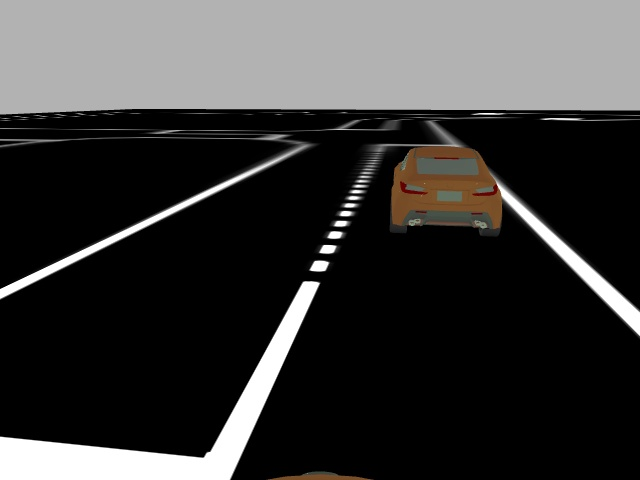obstacle_car: (386, 145, 507, 235)
